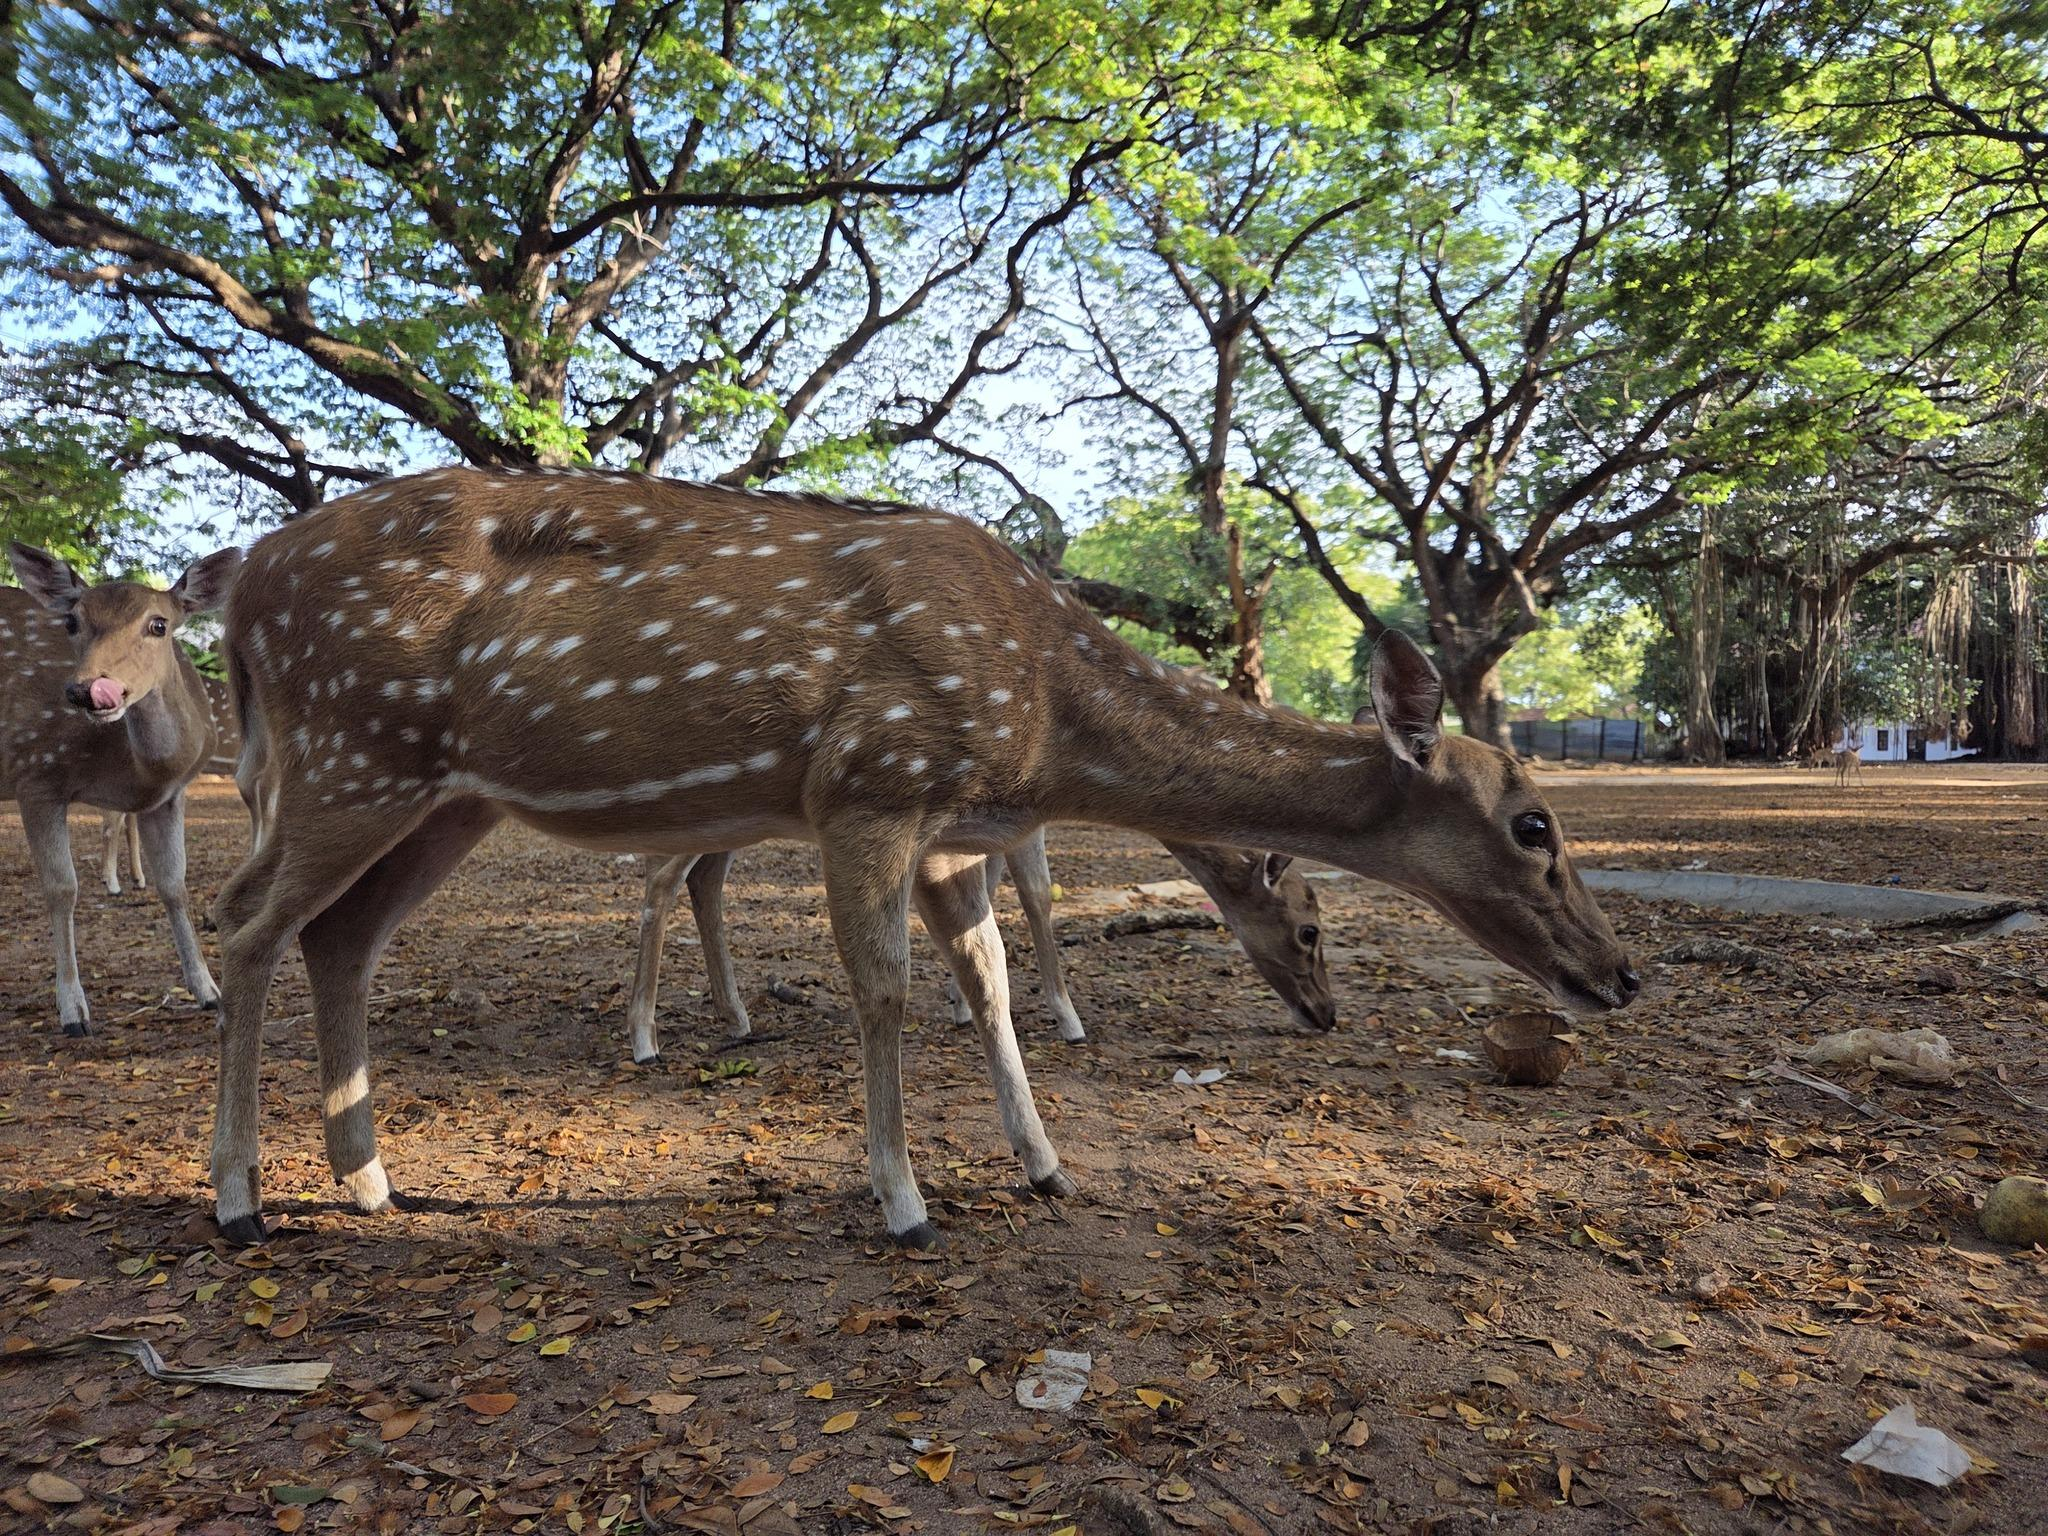Deer: (211, 468, 1637, 1241), (0, 542, 242, 1036), (1164, 842, 1335, 1029)
